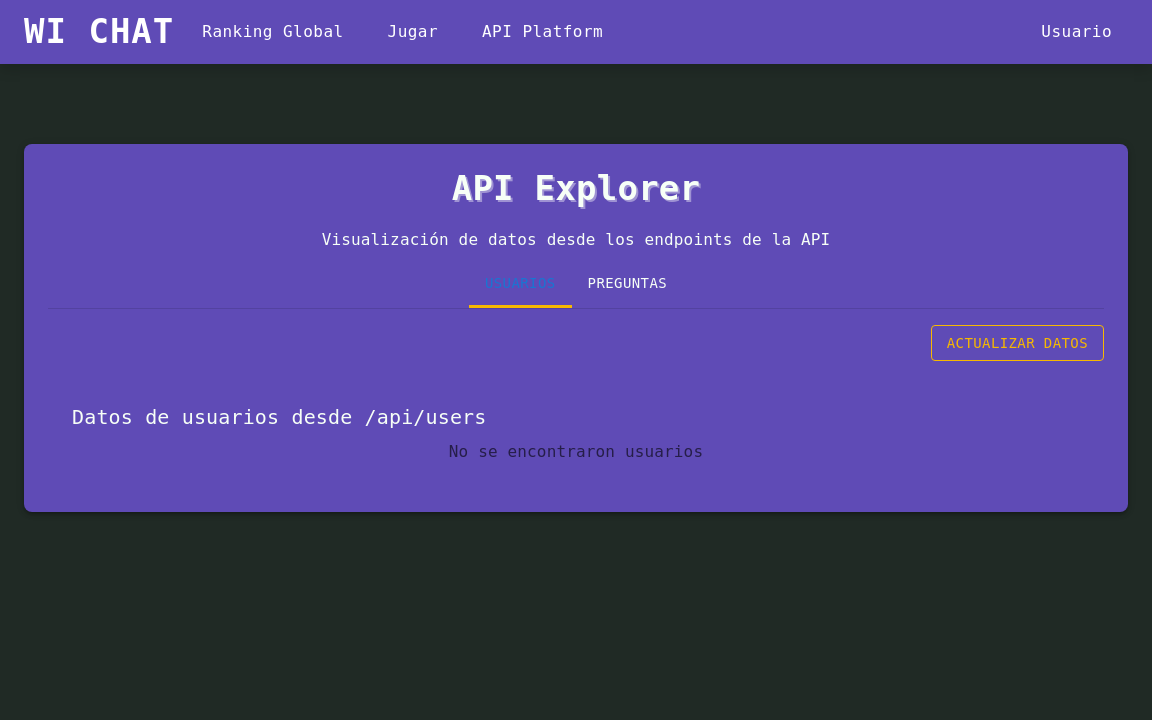
Api Component › should display question data correctly
This screenshot has width=1152, height=720.
Click the tab "Preguntas".
click(627, 284)  # box [572, 260, 683, 308]
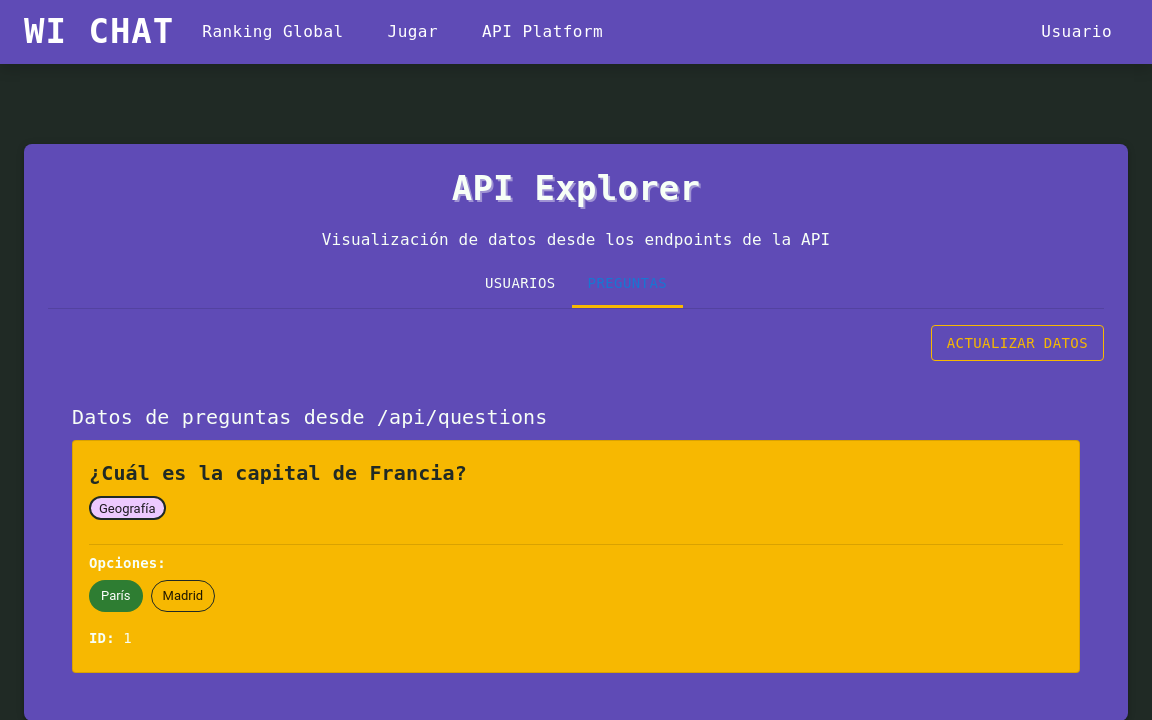
Expected: the text "¿Cuál es la capital de Francia?" is shown, [89, 461, 467, 485]
Expected: the text "París" is shown, [101, 588, 130, 603]
Expected: the text "Geografía" is shown, [99, 501, 156, 516]
